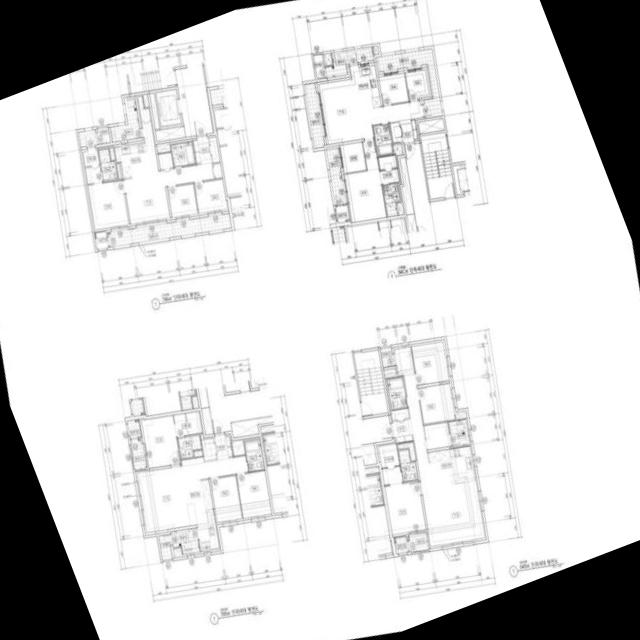background: (0, 0, 640, 640)
space_balconi: (377, 48, 442, 118), (107, 213, 231, 247), (325, 47, 373, 78), (110, 96, 141, 142), (304, 83, 324, 148), (326, 148, 345, 205), (171, 528, 200, 554), (448, 419, 469, 447), (130, 438, 146, 470), (407, 532, 428, 552)
space_bedroom: (345, 140, 386, 222), (384, 481, 425, 535), (141, 415, 180, 468), (88, 180, 128, 229), (236, 471, 271, 518), (411, 342, 449, 385), (418, 383, 455, 424), (210, 475, 242, 522), (194, 179, 227, 213), (167, 184, 197, 217), (378, 73, 408, 105), (405, 70, 428, 101)
space_dressroom: (378, 444, 402, 485), (173, 411, 202, 437), (82, 147, 102, 184), (378, 155, 399, 184)
space_elevator: (155, 89, 181, 127)
space_elevator_hall: (175, 65, 212, 137)
space_front: (192, 135, 212, 164), (391, 419, 413, 443), (214, 433, 232, 460), (399, 119, 418, 141)
space_kitchen: (114, 96, 158, 177), (189, 478, 219, 551), (427, 446, 475, 487), (349, 65, 381, 111)
space_living_room: (394, 347, 484, 546), (137, 455, 248, 533), (318, 79, 422, 144), (123, 162, 214, 224)
space_multipurpose_space: (340, 142, 366, 173)
space_other: (399, 157, 414, 215), (424, 422, 451, 450), (78, 127, 110, 147), (155, 126, 185, 141), (418, 118, 444, 133), (149, 93, 159, 129), (201, 438, 216, 461), (397, 442, 415, 461), (159, 534, 172, 560), (201, 407, 213, 435), (313, 54, 325, 79), (380, 347, 395, 367), (209, 137, 219, 163), (158, 152, 173, 169), (390, 122, 401, 143), (231, 440, 245, 456), (391, 408, 409, 420), (213, 163, 222, 178), (156, 144, 170, 153), (383, 368, 396, 376), (393, 143, 402, 154), (324, 53, 332, 65), (396, 202, 403, 215), (116, 164, 121, 179), (109, 148, 115, 160), (173, 548, 181, 556), (193, 450, 202, 457), (143, 95, 148, 107), (455, 413, 465, 419), (373, 46, 378, 54)
space_outdoor_room: (393, 536, 408, 554), (127, 419, 141, 438), (335, 205, 349, 223)
space_staircase: (420, 132, 455, 199), (354, 349, 388, 416)
space_toilet: (386, 377, 407, 409), (170, 141, 195, 167), (373, 124, 393, 156), (244, 439, 264, 471), (98, 148, 117, 181), (398, 449, 417, 482), (382, 183, 400, 217), (177, 435, 201, 459)
